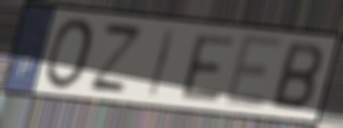B: (267, 39, 325, 115)
E: (221, 31, 286, 111), (179, 33, 238, 105)
I: (145, 26, 178, 99)
O: (44, 16, 97, 92)
Z: (85, 20, 147, 96)
